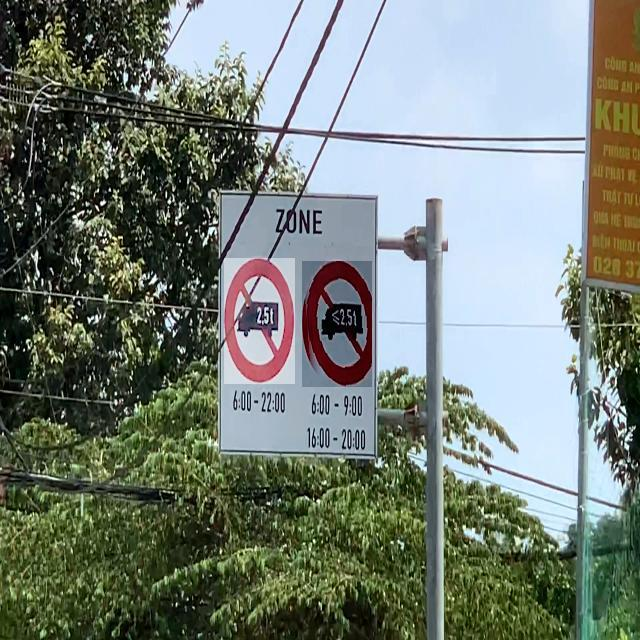P-106b: (224, 258, 295, 384), (302, 261, 372, 387)
